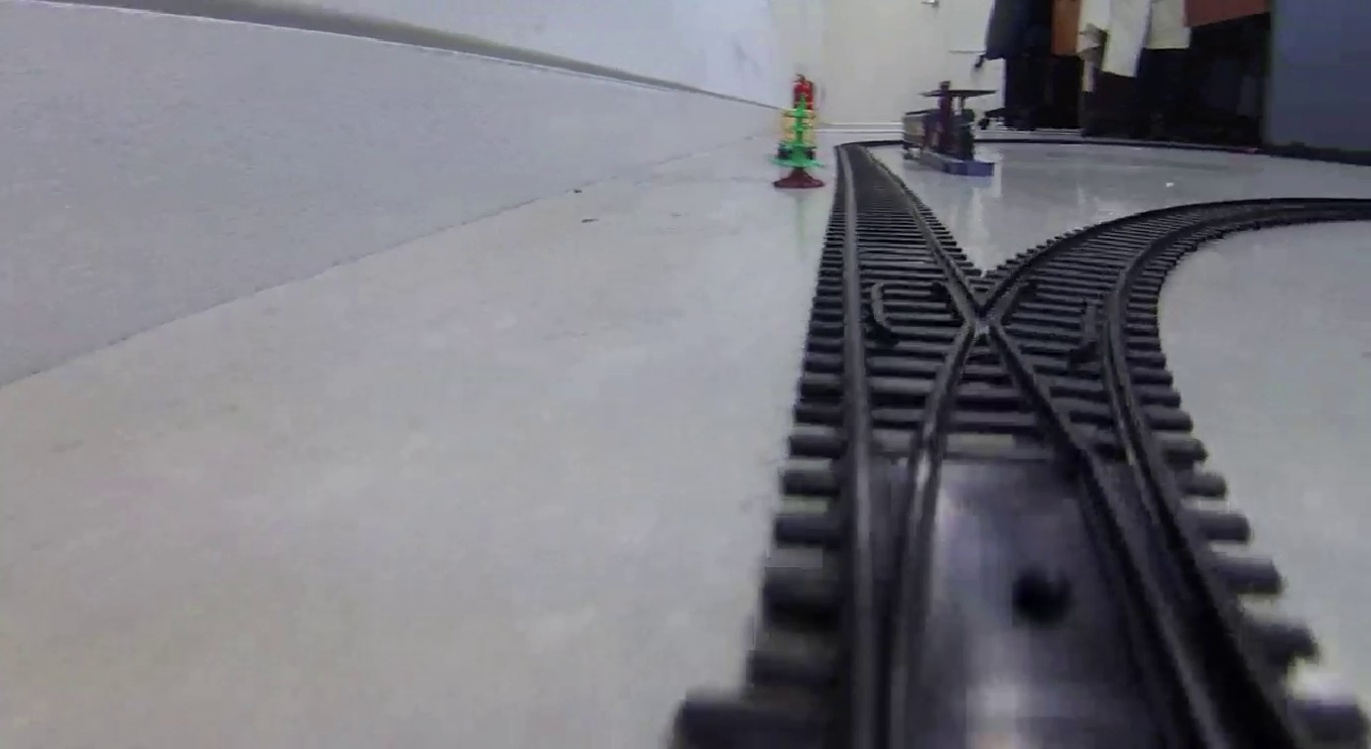tree: (772, 98, 827, 190)
